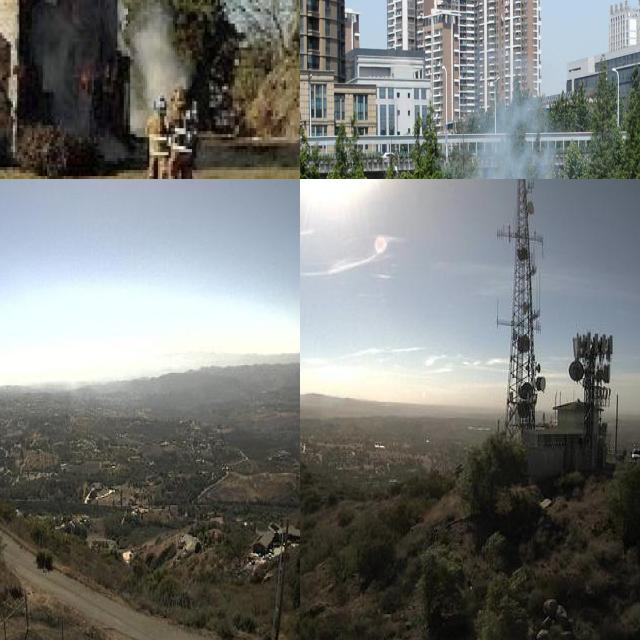smoke: (463, 48, 558, 179), (120, 9, 179, 125)
